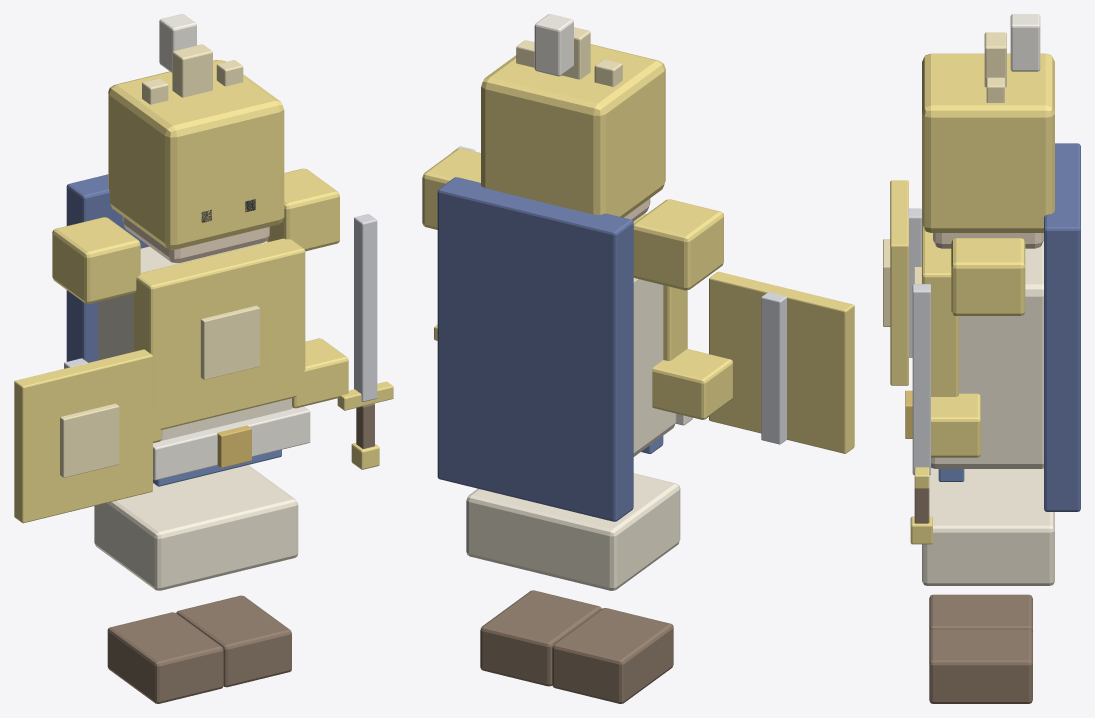
File: knight_gold.glb
3 renders of one model, left to right at view 1: azimuth 30°, elevation 25°; view 2: azimuth 150°, elevation 25°; view 3: azimuth 270°, elevation 25°, orthographic. The views are drawn at different scales.
Parts seen in each view (by area): view 1: Head_helmet, Body_breastplate, Body_skirt, Arm_L_shield_face, Leg_L_boot, Body_paul_L, Leg_R_boot, Body_belt, Arm_R_sword_blade, Body_torso, Body_cape, Body_paul_R (+13 smaller); view 2: Body_cape, Head_helmet, Arm_L_shield_face, Body_skirt, Leg_L_boot, Body_paul_L, Leg_R_boot, Body_torso, Arm_L_bracer, Arm_L_shield, Head_plume, Body_paul_R (+3 smaller); view 3: Head_helmet, Body_skirt, Body_torso, Body_cape, Leg_R_boot, Body_paul_R, Body_breastplate, Arm_L_shield_face, Leg_L_boot, Arm_R_sword_blade, Arm_R_bracer, Head_plume (+10 smaller).
Part boxes in pixels (box(x1,y1,x2,y2)): Head_helmet: box(108, 60, 284, 249); Body_breastplate: box(134, 238, 305, 429); Body_skirt: box(94, 465, 298, 590); Arm_L_shield_face: box(14, 349, 152, 523); Leg_L_boot: box(107, 612, 223, 703); Body_paul_L: box(52, 217, 140, 303); Leg_R_boot: box(176, 595, 291, 687); Body_belt: box(153, 406, 310, 480); Arm_R_sword_blade: box(354, 214, 377, 401); Body_torso: box(98, 243, 292, 440); Body_cape: box(66, 174, 149, 362); Body_paul_R: box(266, 168, 339, 251); Body_cape: box(437, 177, 633, 521); Head_helmet: box(481, 44, 665, 217); Arm_L_shield_face: box(709, 271, 854, 453); Body_skirt: box(466, 473, 680, 590); Leg_L_boot: box(552, 608, 673, 703); Body_paul_L: box(633, 199, 723, 290); Leg_R_boot: box(480, 590, 601, 686); Body_torso: box(633, 278, 676, 456); Arm_L_bracer: box(652, 349, 732, 419); Arm_L_shield: box(761, 292, 786, 444); Head_plume: box(534, 14, 573, 76); Body_paul_R: box(422, 148, 480, 229); Head_helmet: box(922, 53, 1054, 232); Body_skirt: box(922, 468, 1054, 585); Body_torso: box(931, 241, 1043, 468); Body_cape: box(1044, 143, 1080, 511); Leg_R_boot: box(929, 629, 1032, 703); Body_paul_R: box(951, 238, 1025, 315); Body_breastplate: box(922, 225, 958, 396); Arm_L_shield_face: box(890, 180, 908, 385); Leg_L_boot: box(929, 594, 1032, 632); Arm_R_sword_blade: box(912, 284, 930, 474); Arm_R_bracer: box(931, 393, 980, 457); Head_plume: box(1010, 14, 1040, 71).
Bounding box in the file's own units: 1.23 × 1.95 × 0.535.
